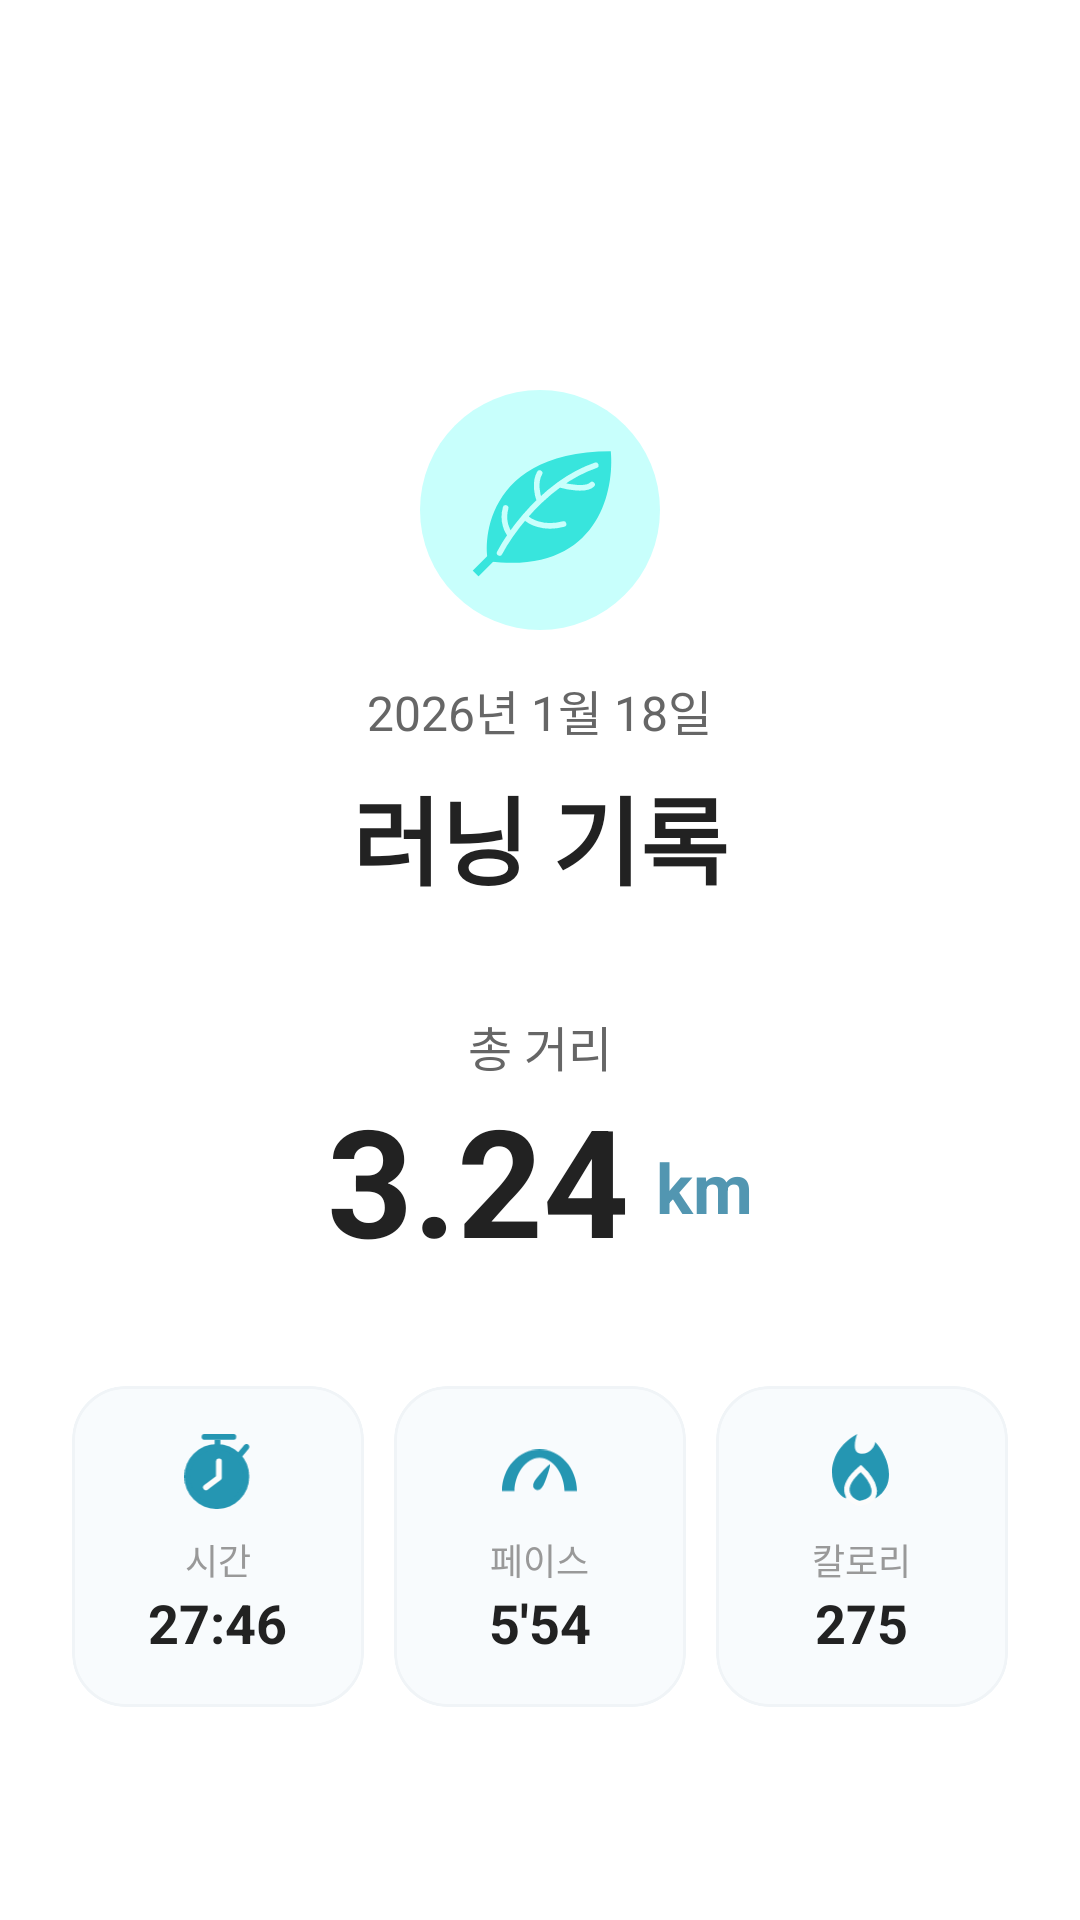

Screen size 1080w x 1920h. Icon name, then its center in pixels as point (x, y):
fire: point (860, 1467)
leaf: point (540, 510)
timer: point (217, 1471)
